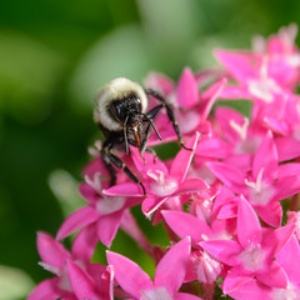bee: (92, 76, 195, 204)
